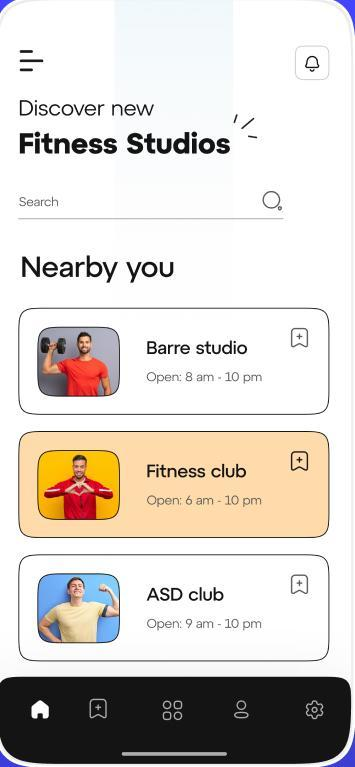icon: (292, 43, 334, 84), (257, 185, 287, 215), (17, 49, 49, 77), (288, 327, 316, 356), (288, 447, 313, 475), (161, 698, 186, 725), (287, 572, 311, 598), (88, 697, 111, 722), (32, 700, 52, 724), (232, 699, 252, 723), (308, 700, 326, 721)
